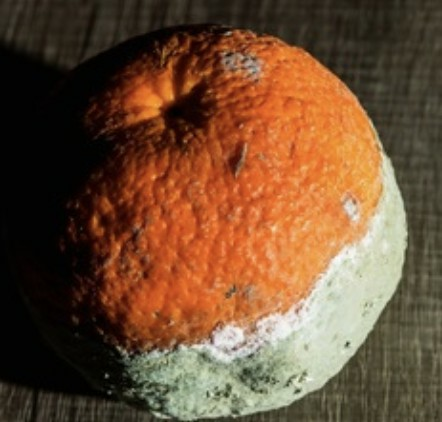rotten_orange: (18, 24, 407, 420)
